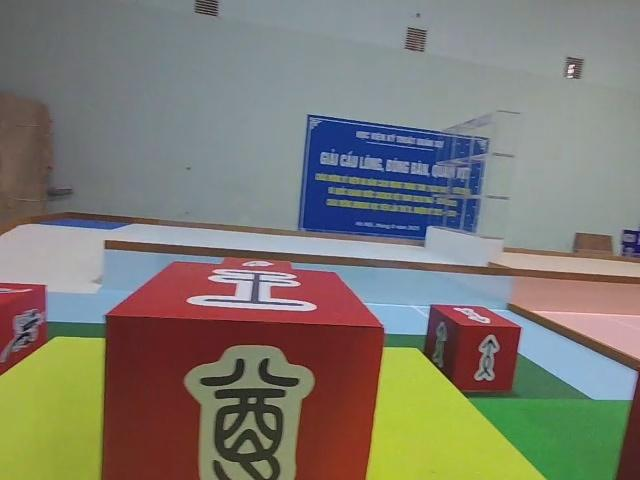R1: (0, 281, 46, 381)
R2 Fake: (104, 261, 386, 480)
R2 Real: (423, 303, 523, 399)
